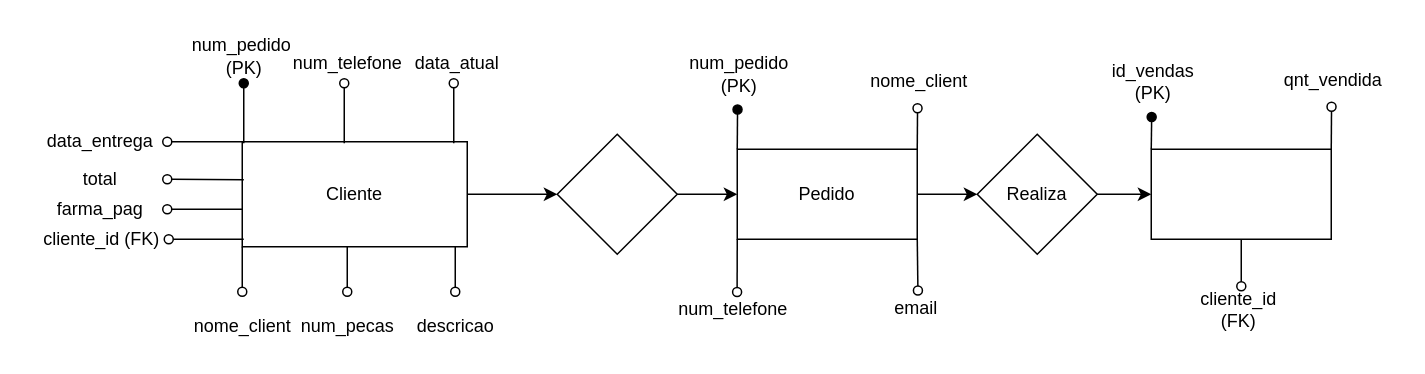
The diagram is 1425 pixels wide and 374 high, and some of its shapes have lost their labels. Each missing label, with the centre of its shape:
Efetua: the point at 616,193
Venda: the point at 1240,193
